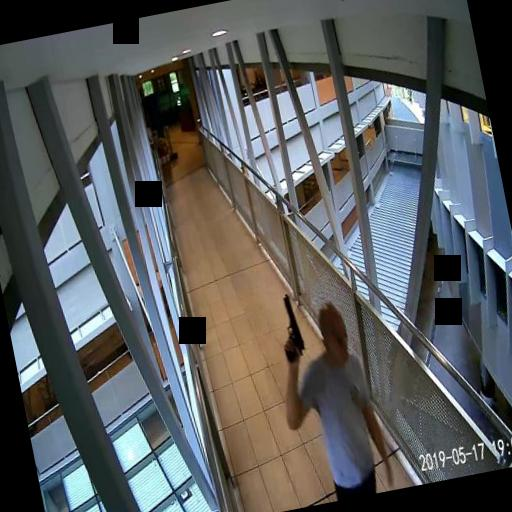Handgun: (272, 290, 306, 362)
